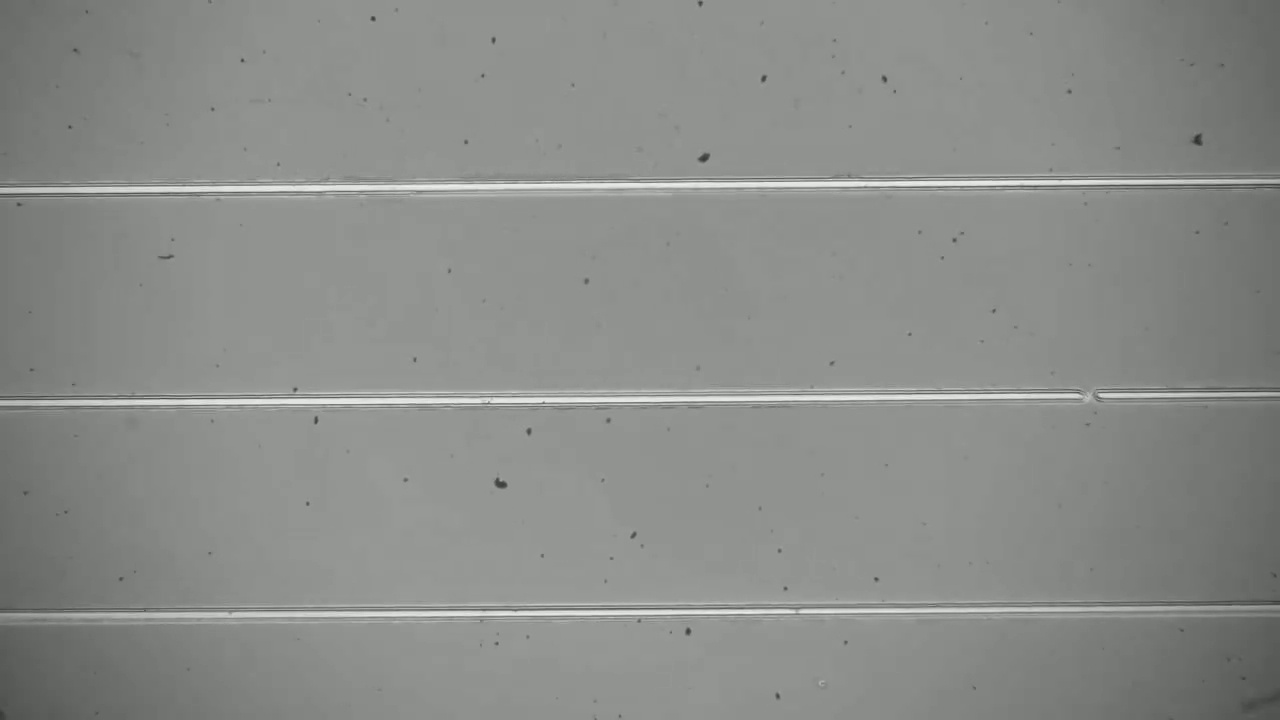open: (1064, 372, 1108, 419)
